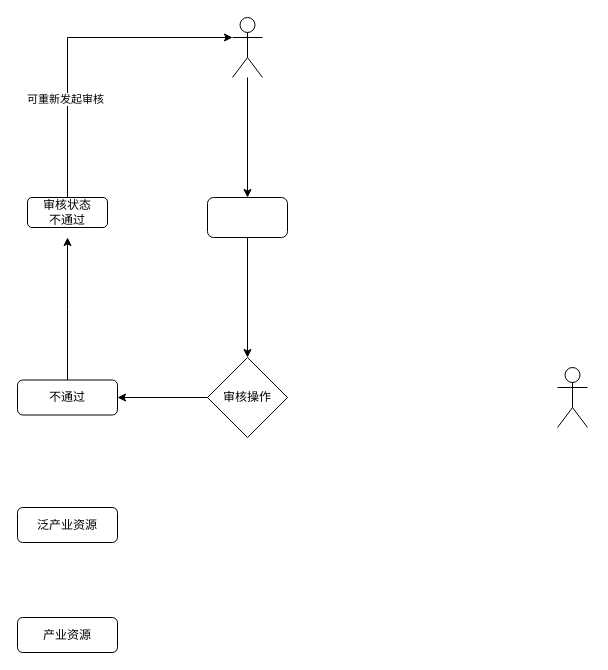
This 608x670 diagram has some shape labels left out. Here are the shapes that lost their labels. From the top down, the box of each, then its label:
(232, 16, 262, 78): 资源录入者
(206, 196, 288, 238): 提交审核
(556, 366, 588, 428): 审核者
